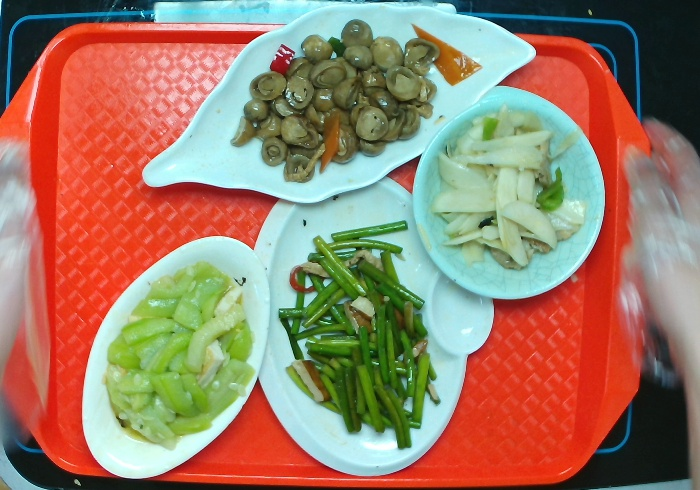RJxy-Bai_Se_Tuo_Yuan: (80, 227, 274, 483)
RJxy-Shu_Ye_Pan: (138, 3, 541, 210)
RJxy-Xiao_Jiao_Yuan_Wan: (404, 81, 611, 305)
RJxy-Zhan_Liao_Pan: (246, 172, 497, 485)
